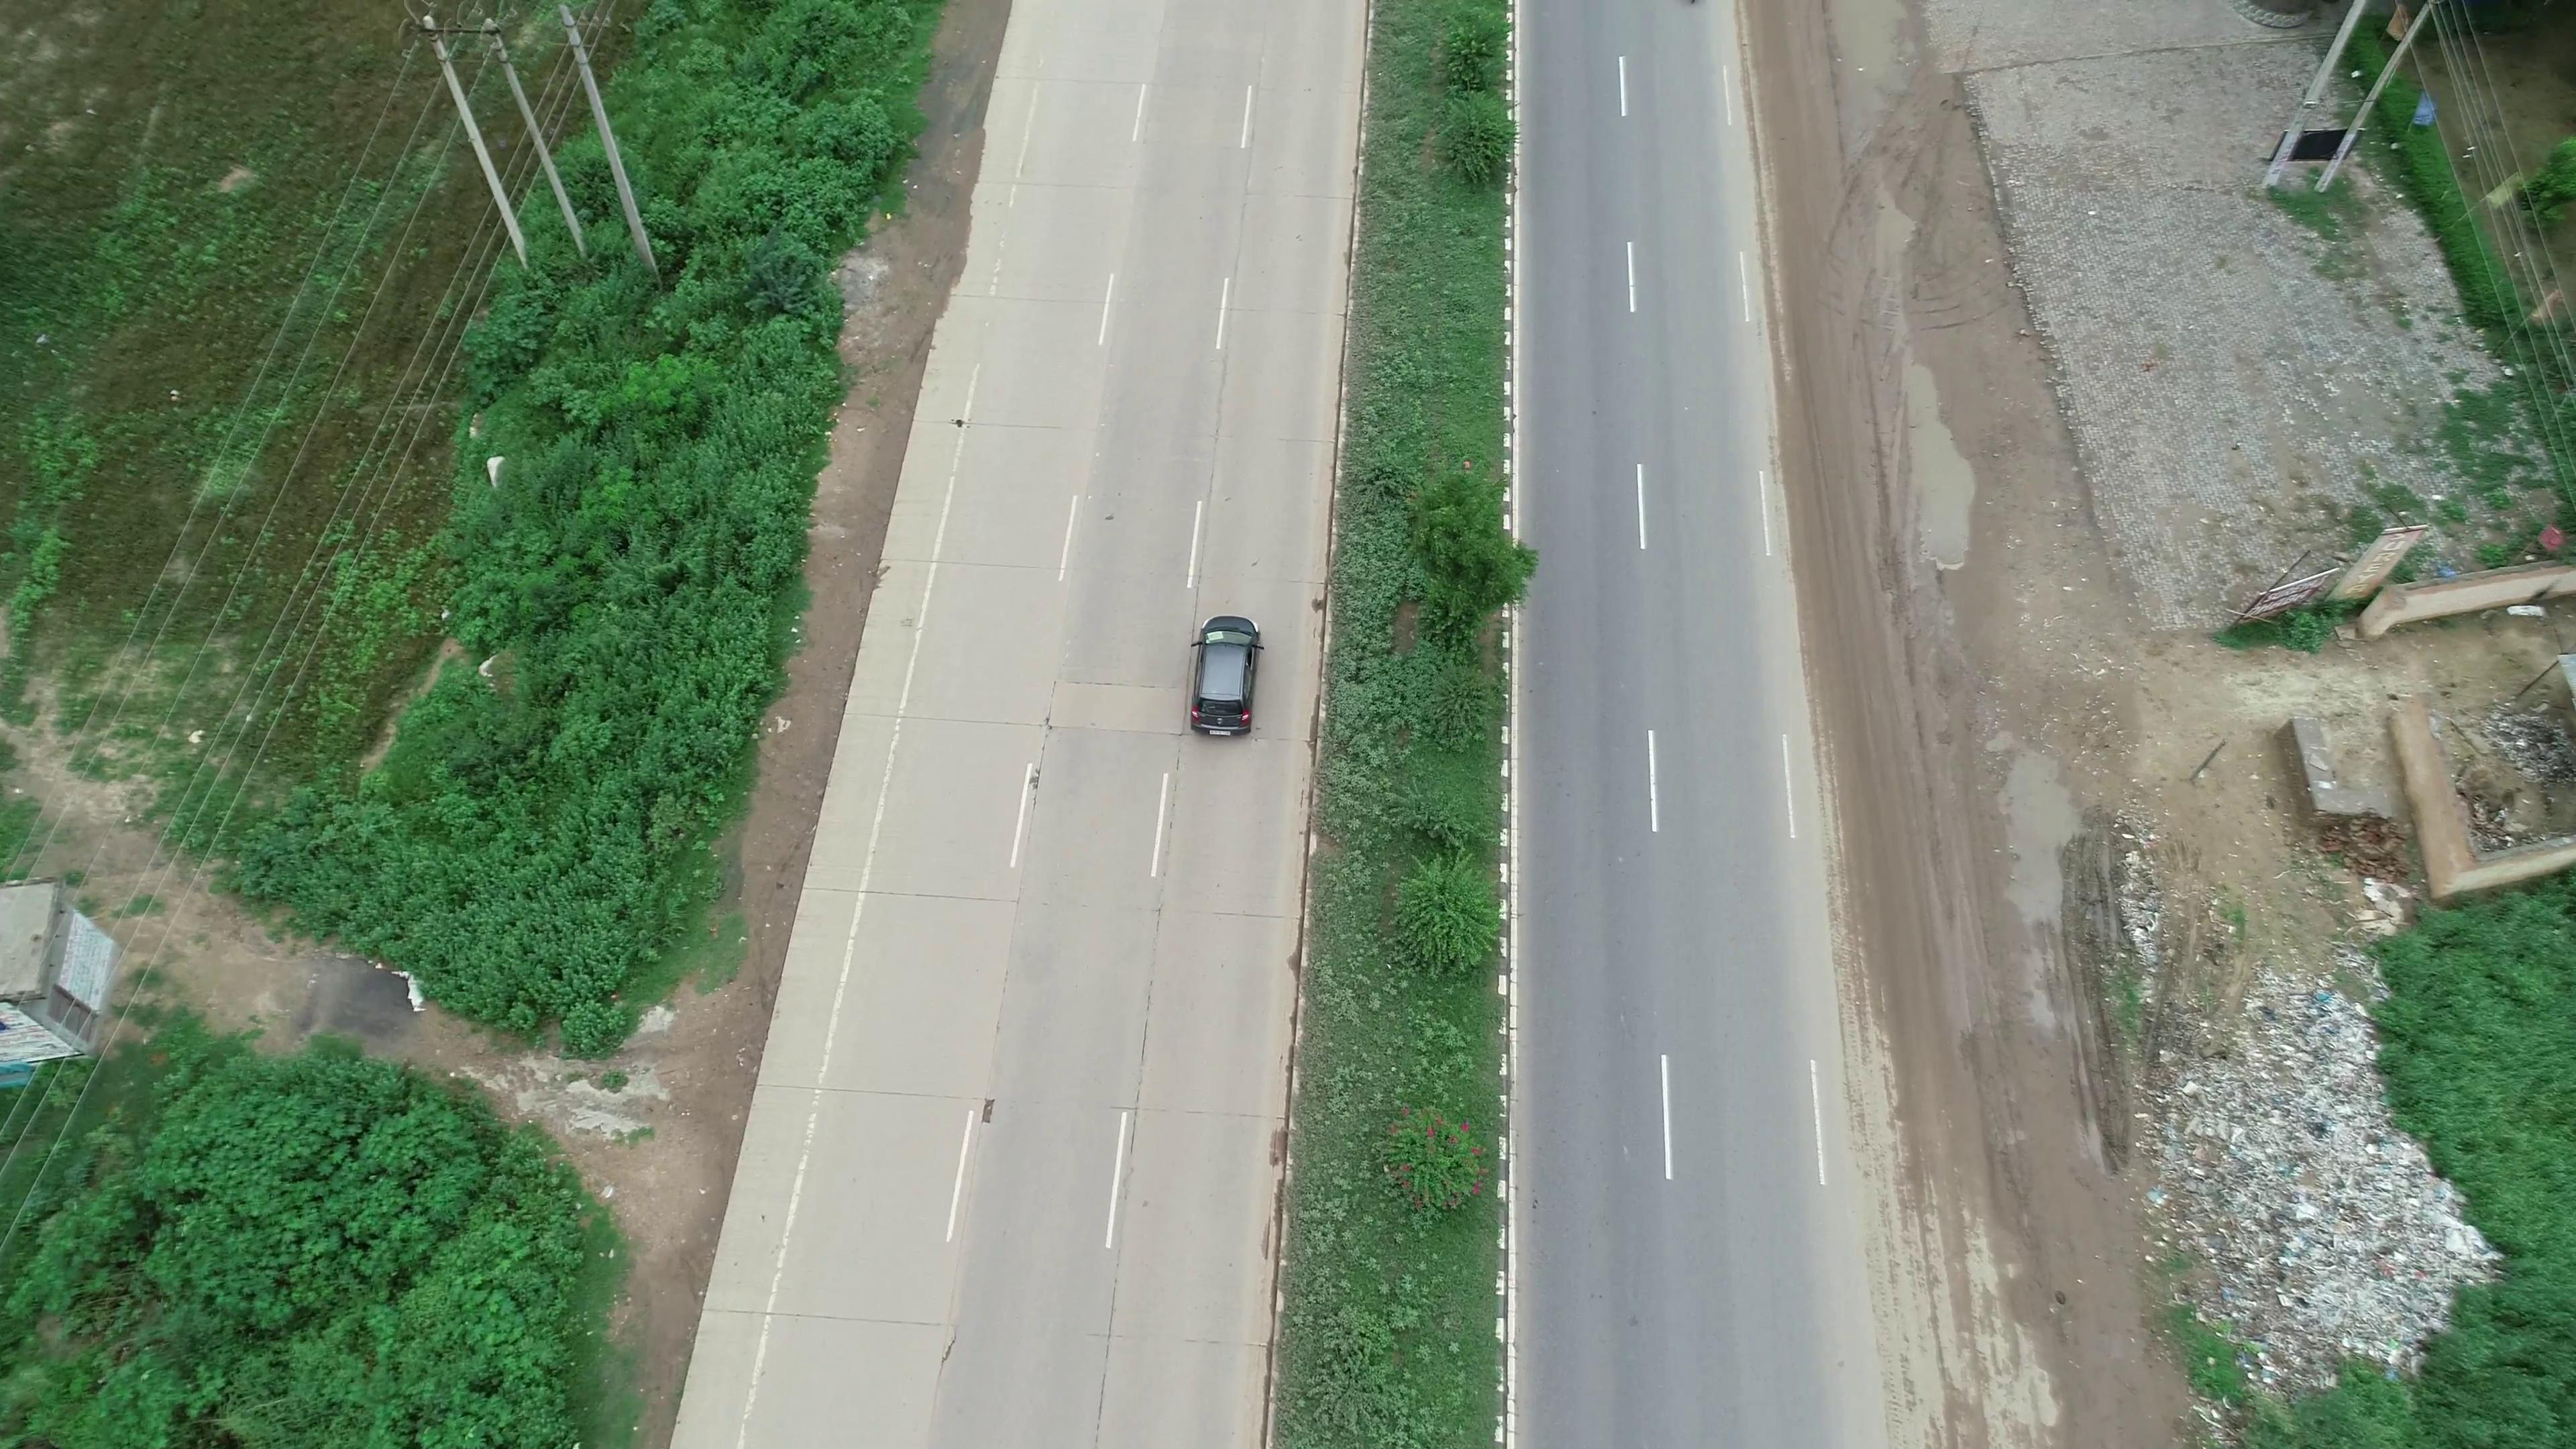Muddy_road: (1785, 550, 1941, 1003), (1741, 30, 1881, 508)
